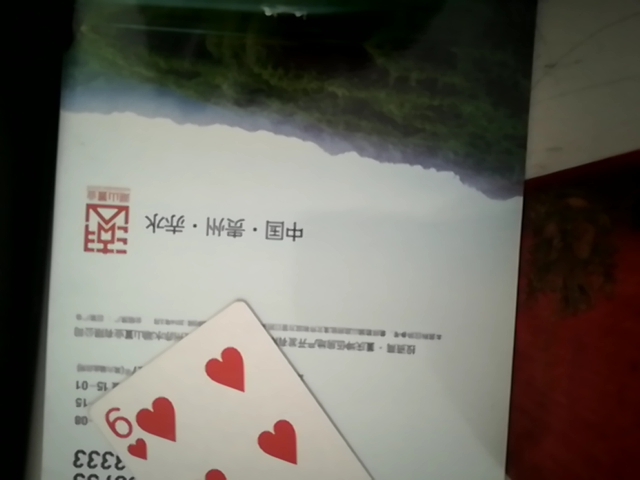hx 6: (80, 304, 415, 479)
